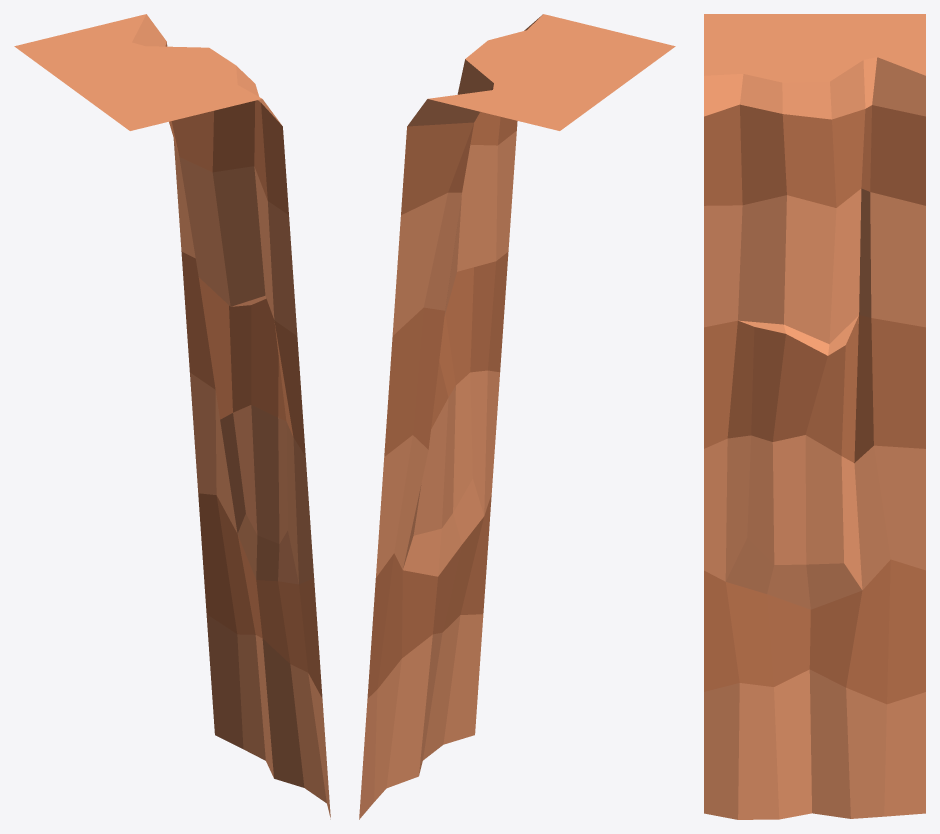
Rendered from Straight_Cliff_4.fbx.
3 views of the same model, side by side, from view 1: azimuth 30°, elevation 25°; view 2: azimuth 150°, elevation 25°; view 3: azimuth 270°, elevation 25° (orthographic). The views are drawn at different scales.
Parts seen in each view (by area): view 1: Straight_Cliff_4; view 2: Straight_Cliff_4; view 3: Straight_Cliff_4.
Boxes of the visible parts, <box> form: Straight_Cliff_4: <box>14,14,330,819</box>; Straight_Cliff_4: <box>359,14,675,819</box>; Straight_Cliff_4: <box>704,14,925,819</box>.
Bounding box in the file's own units: 214 × 702 × 200.
